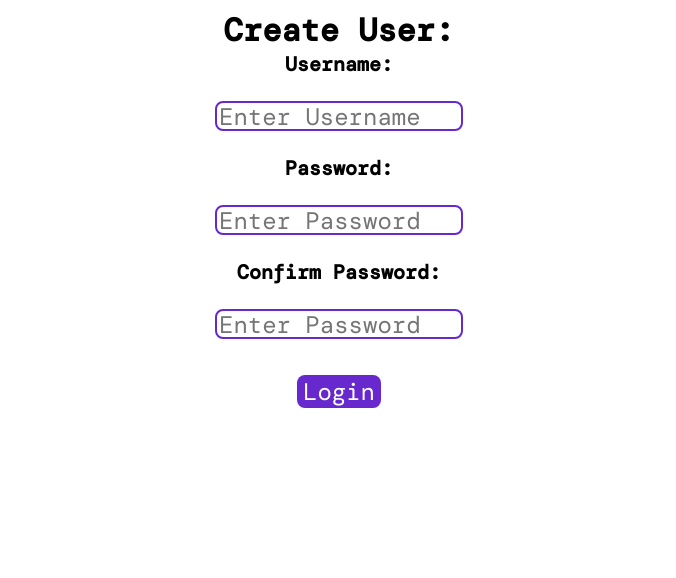
Test case: CreateUserPage › should show an error for simple passwords
This screenshot has width=676, height=578.
In the field with placeholder "Enter Username": [339, 116] box x1=215 y1=101 x2=463 y2=131, type "testuser"
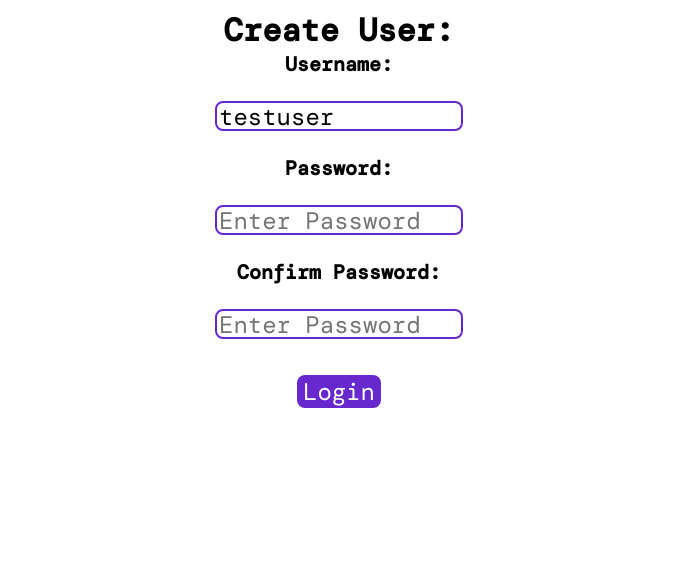
In the 1st password field with placeholder "Enter Password": [339, 220] box x1=215 y1=205 x2=463 y2=235, type "123123"
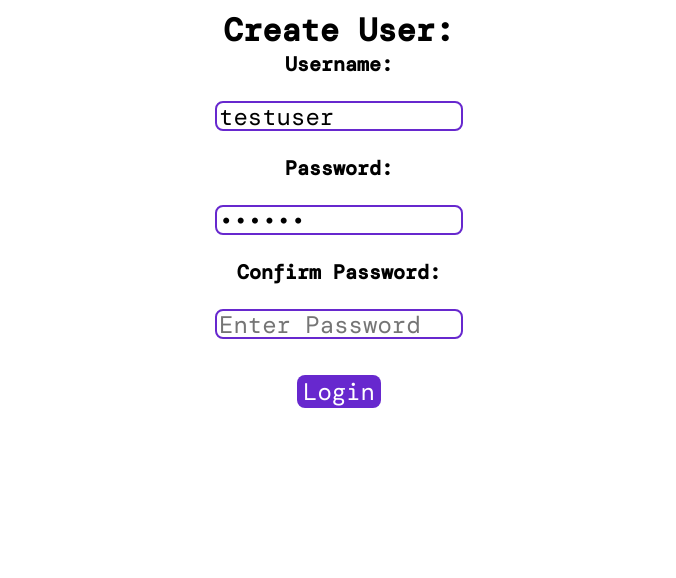
In the password field with placeholder "Enter Password": [339, 324] box x1=215 y1=309 x2=463 y2=339, type "123123"
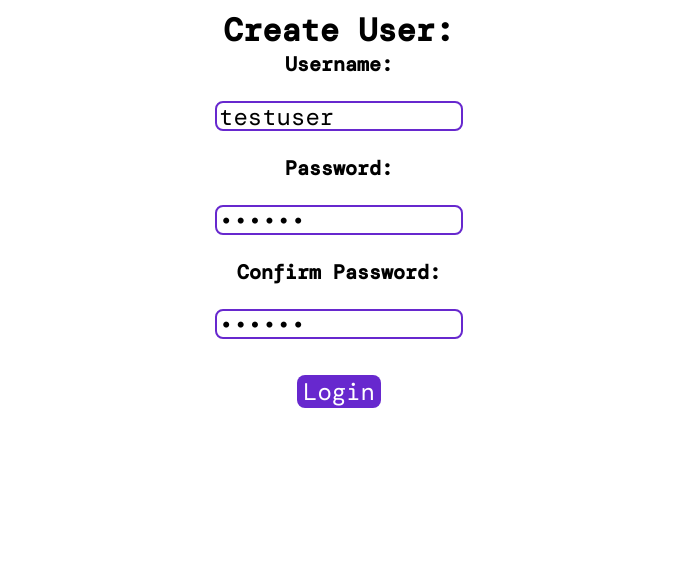
Click the button "Login": [339, 392] box x1=297 y1=375 x2=381 y2=408
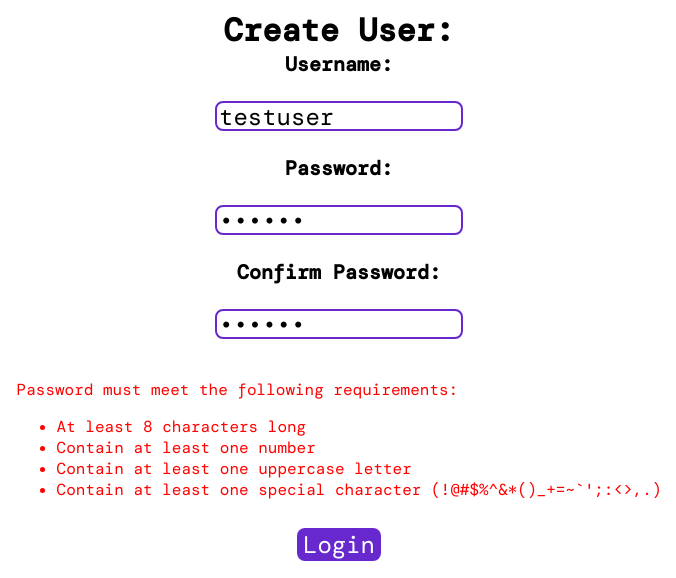
Check: the text "Password must meet the following requirements:" is shown, box x1=17 y1=379 x2=458 y2=400
Check: the list item "At least 8 characters long" is shown, box x1=57 y1=416 x2=306 y2=437
Check: the list item "Contain at least one number" is shown, box x1=57 y1=437 x2=316 y2=458
